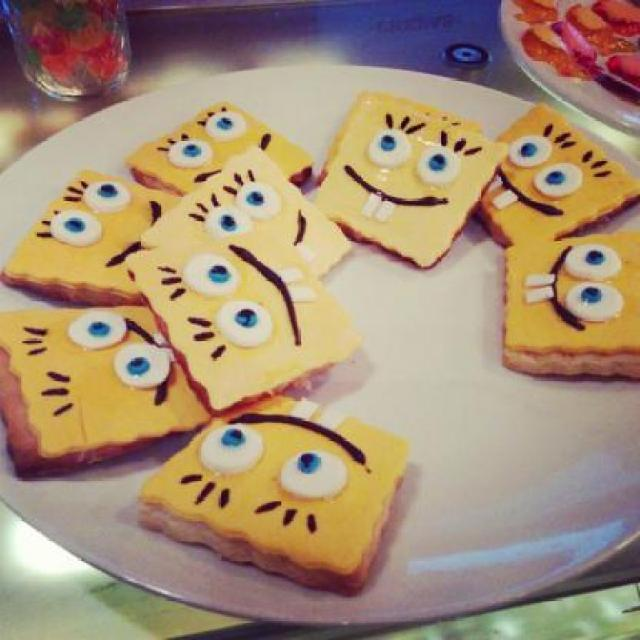Cookie: (134, 392, 412, 596), (122, 224, 360, 420), (0, 305, 214, 493), (313, 95, 510, 272), (136, 150, 350, 279), (0, 165, 178, 305), (472, 101, 640, 242), (500, 230, 640, 384), (123, 98, 314, 196), (315, 85, 480, 181)
